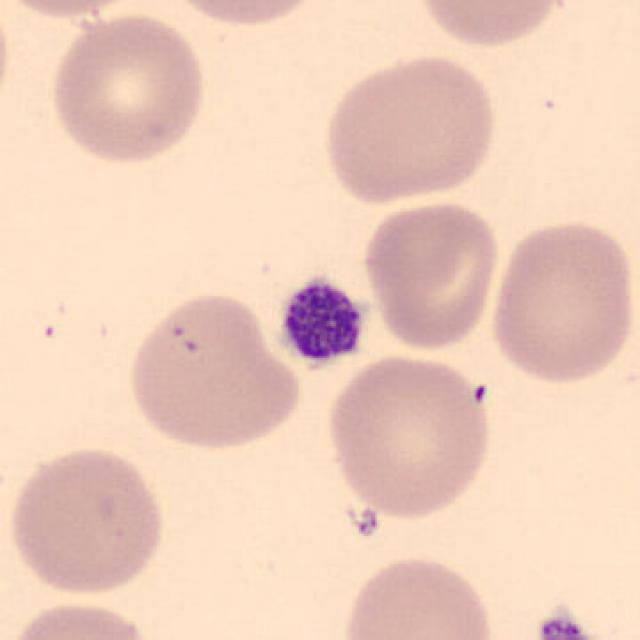Platelets: (274, 272, 370, 370), (529, 606, 604, 640)
RBC: (320, 349, 498, 525), (122, 287, 306, 455), (317, 49, 503, 208), (3, 441, 170, 599), (45, 9, 212, 167), (486, 213, 636, 388), (357, 196, 503, 354), (336, 550, 500, 640), (412, 0, 570, 51), (2, 596, 162, 640), (157, 0, 327, 32), (0, 0, 147, 19), (0, 2, 14, 127)
